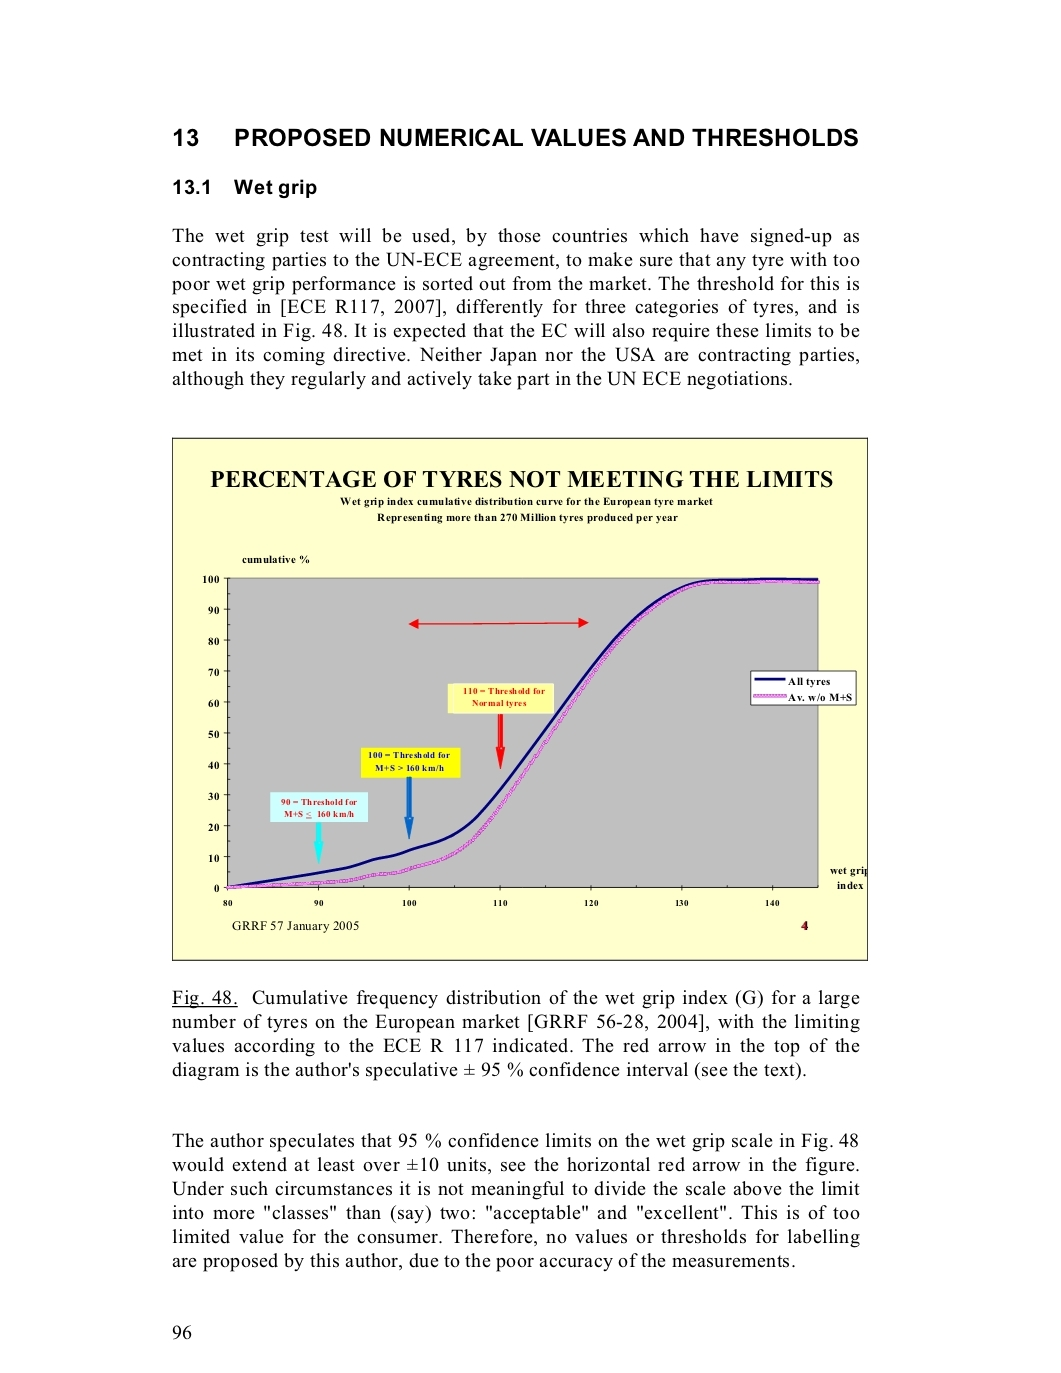figure: (172, 436, 867, 961)
